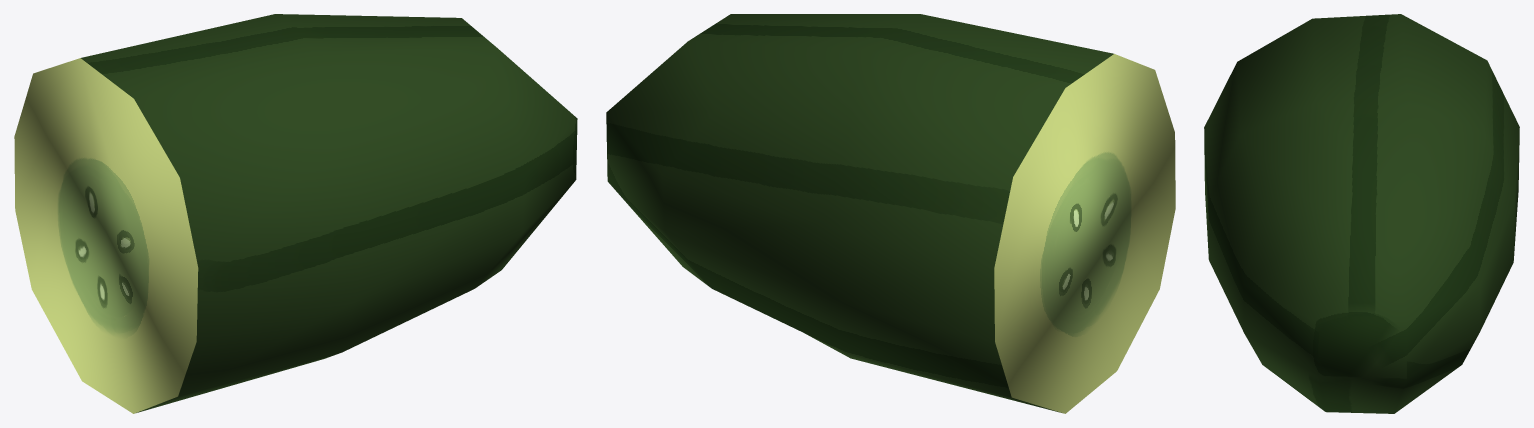
File: cucumber.fbx
3 views of the same model, side by side, from view 1: azimuth 30°, elevation 25°; view 2: azimuth 150°, elevation 25°; view 3: azimuth 270°, elevation 25° (orthographic). The views are drawn at different scales.
Parts seen in each view (by area): view 1: cucumber; view 2: cucumber; view 3: cucumber.
Part boxes in pixels (left/top/right/bottom): cucumber: left=14, top=14, right=577, bottom=413; cucumber: left=606, top=14, right=1175, bottom=413; cucumber: left=1204, top=14, right=1519, bottom=413.
Size of the model in its own units: 30.88 by 21.14 by 21.51.
Materials: 1 (1 with a texture image).
